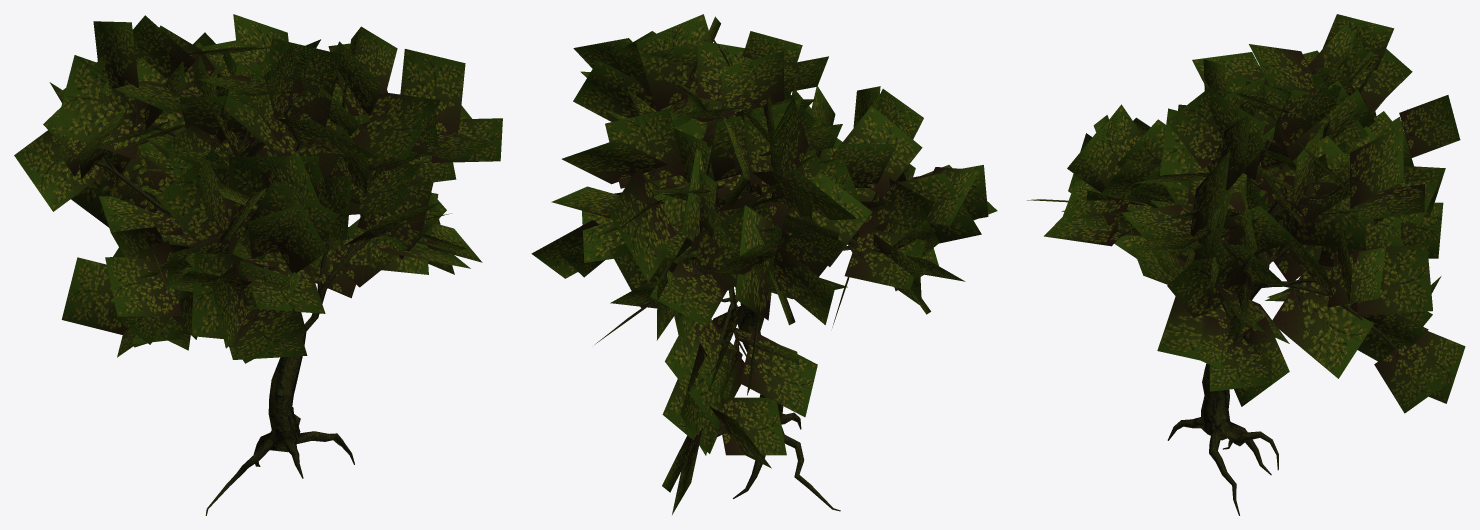
File: DeadTree_3.fbx
3 views of the same model, side by side, from view 1: azimuth 30°, elevation 25°; view 2: azimuth 150°, elevation 25°; view 3: azimuth 270°, elevation 25° (orthographic). The views are drawn at different scales.
Parts seen in each view (by area): view 1: DeadTree_3; view 2: DeadTree_3; view 3: DeadTree_3.
Boxes of the visible parts, x1,y1,x2,y2 form: DeadTree_3: (14,14,502,515); DeadTree_3: (531,14,997,514); DeadTree_3: (1027,14,1465,515).
Bounding box in the file's own units: 1351 × 1535 × 1425.
